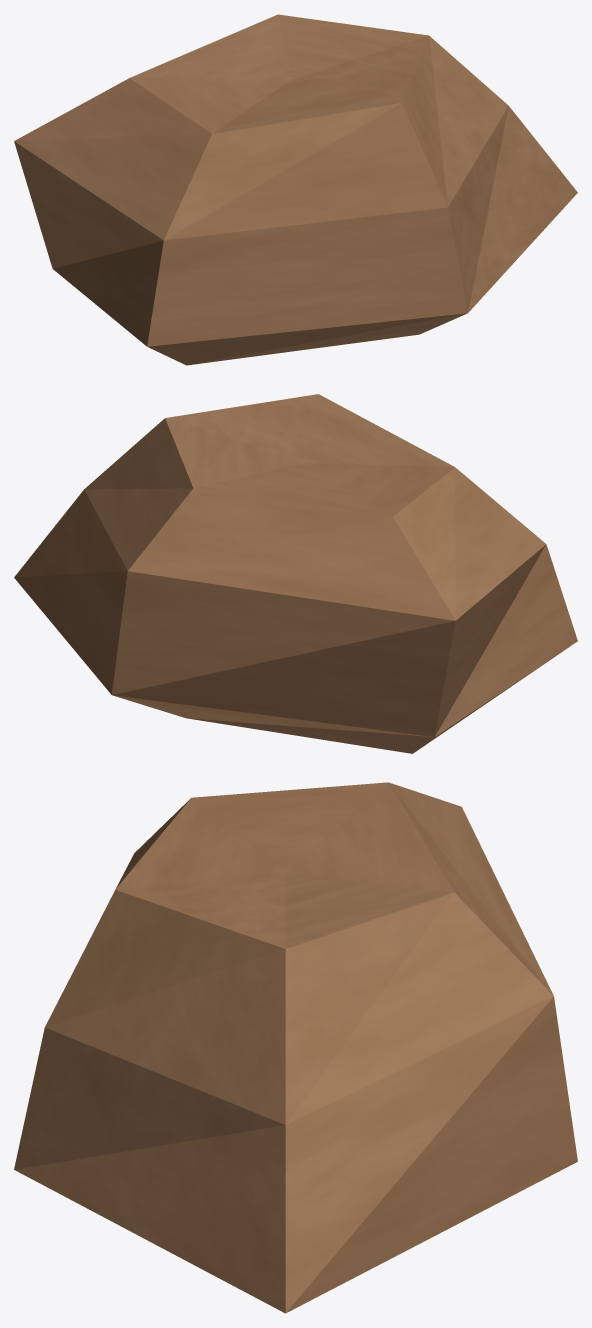
The model's file is SM_CN_Sandstone_A_LOD2.fbx.
3 views of the same model, one above another, from view 1: azimuth 30°, elevation 25°; view 2: azimuth 150°, elevation 25°; view 3: azimuth 270°, elevation 25° (orthographic). The views are drawn at different scales.
Visible parts, largest first — view 1: SM_CN_Sandstone_A_LOD2; view 2: SM_CN_Sandstone_A_LOD2; view 3: SM_CN_Sandstone_A_LOD2.
Boxes of the visible parts, bbox=[...] form: SM_CN_Sandstone_A_LOD2: bbox=[14, 14, 577, 365]; SM_CN_Sandstone_A_LOD2: bbox=[14, 394, 577, 753]; SM_CN_Sandstone_A_LOD2: bbox=[14, 782, 577, 1313].
Size of the model in its own units: 1.2 by 0.8566 by 0.52.
